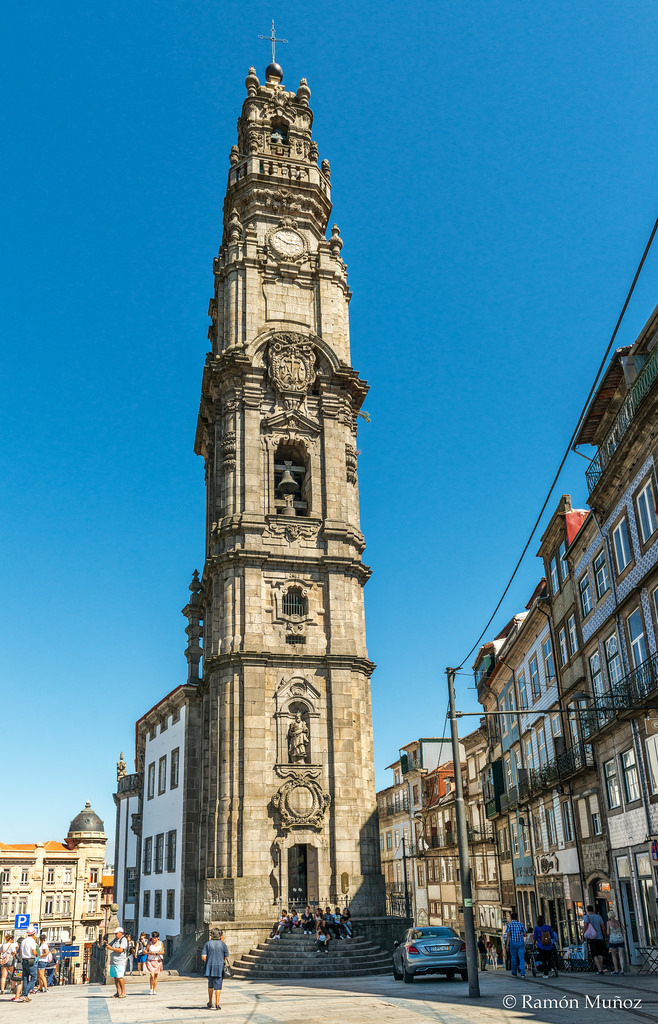clerigos: (180, 16, 388, 918)
